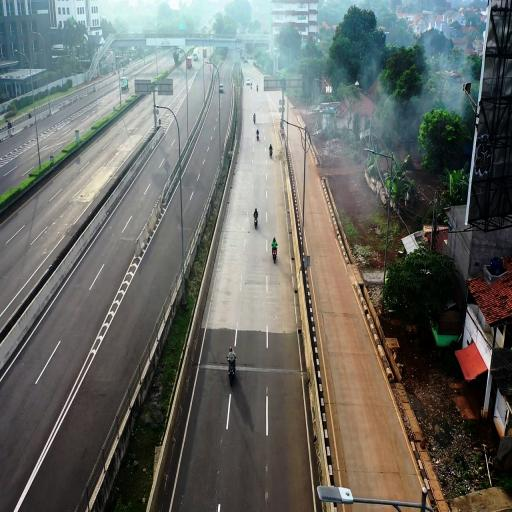vehicle: (227, 357, 235, 385), (121, 77, 128, 91), (193, 47, 199, 60), (272, 248, 277, 263), (187, 56, 192, 68), (203, 49, 207, 58), (219, 84, 223, 93), (254, 216, 257, 228), (246, 79, 251, 85), (243, 57, 247, 63), (270, 147, 272, 158), (257, 133, 259, 141), (257, 85, 258, 92)
